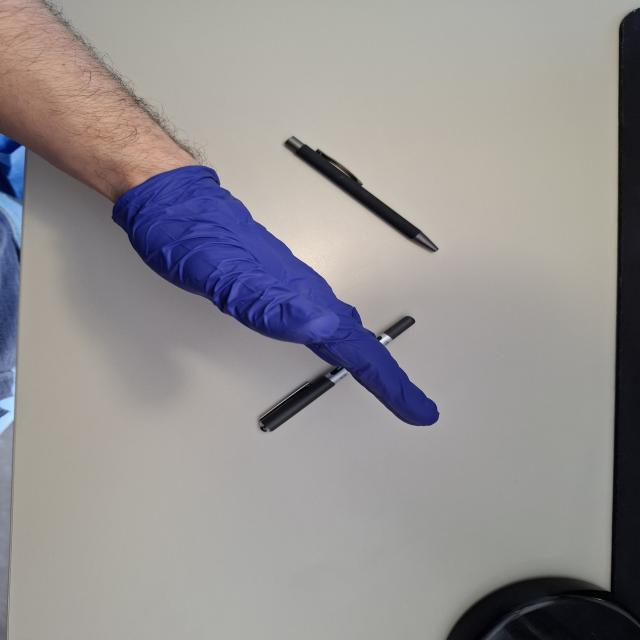glove_on: (106, 158, 447, 431)
